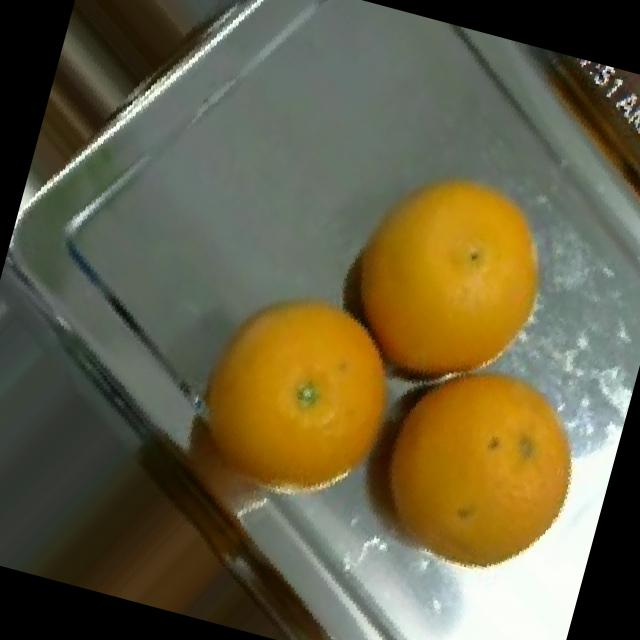Fruit: (550, 80, 640, 271)
